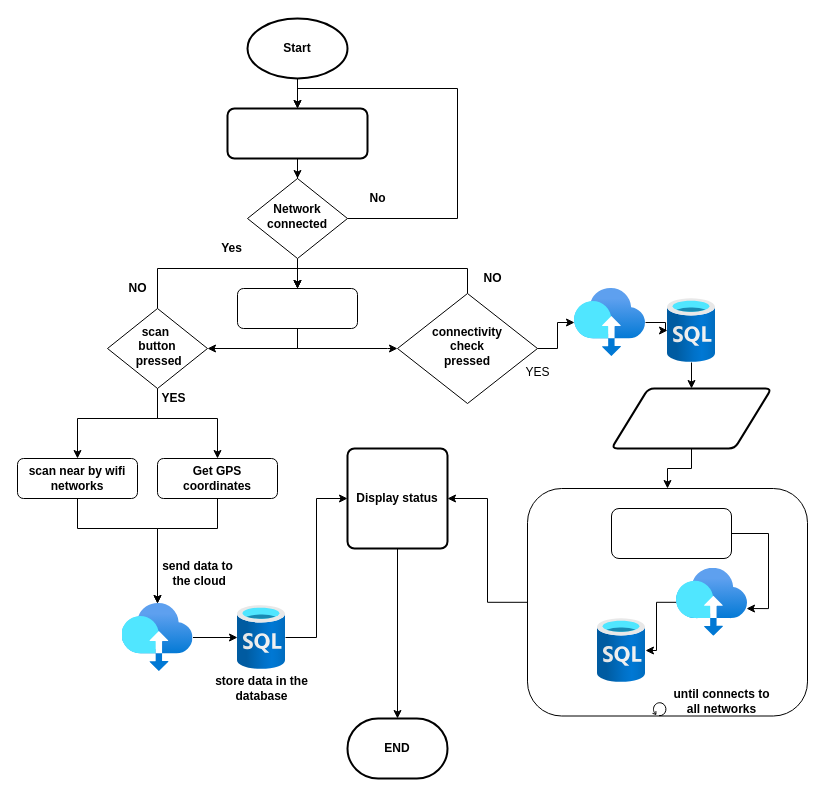
This 825x796 diagram has some shape labels left out. Here are the shapes that lost their labels. From the top down, the centre of each, then its label:
At (297,133): "connect to network base network".
At (297,308): "Read data from pushbuttons".
At (691,418): "Get registered wifi names and passwords".
At (671,533): "connect to one of the networks".
